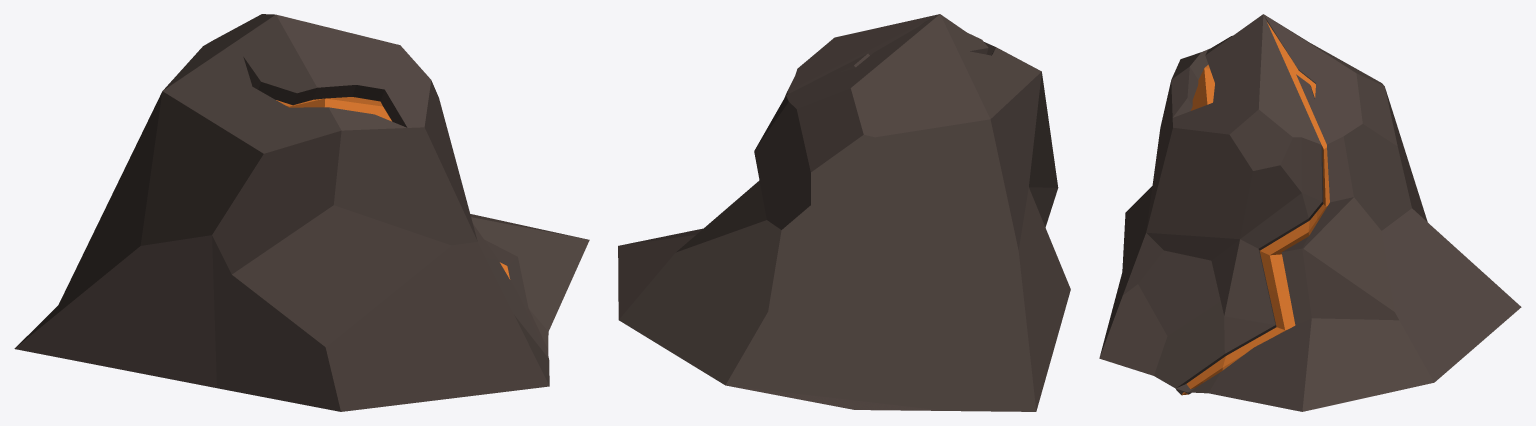
The model's file is CopperOre_01.fbx.
3 views of the same model, side by side, from view 1: azimuth 30°, elevation 25°; view 2: azimuth 150°, elevation 25°; view 3: azimuth 270°, elevation 25° (orthographic). The views are drawn at different scales.
Parts seen in each view (by area): view 1: Cube; view 2: Cube; view 3: Cube.
Part boxes in pixels (<box>): Cube: <box>14,14,589,411</box>; Cube: <box>618,14,1070,411</box>; Cube: <box>1099,14,1521,411</box>.
Bounding box in the file's own units: 423 × 281 × 364.
